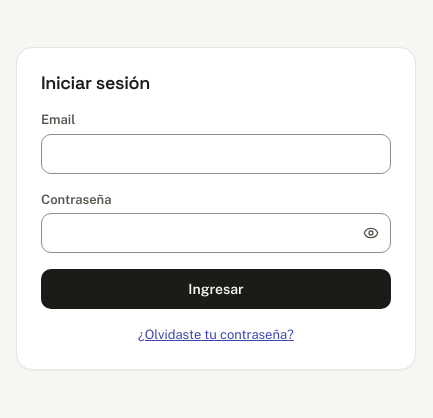
it: LoginPage — mensajes de Supabase en castellano › credenciales inválidas de Supabase (en inglés) se muestran en castellano
This screenshot has width=433, height=418.
Type "a@example.com" into the field labelled "Email" at point(216, 154), box [41,134,391,174]
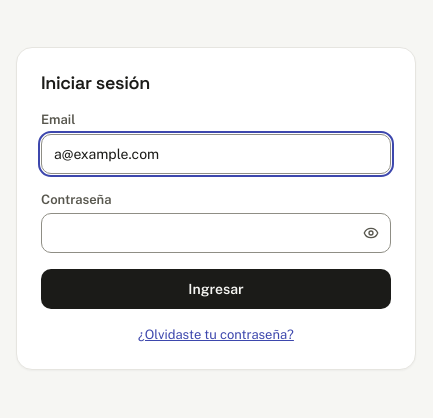
Type "wrong" into the password field labelled "Contraseña" at point(216, 233), box [41,213,391,253]
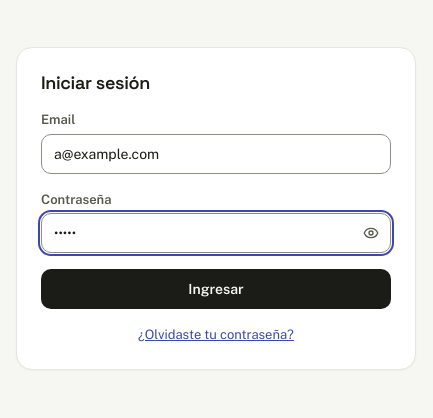
Click the button "Ingresar" at point(216, 289), box [41,269,391,309]
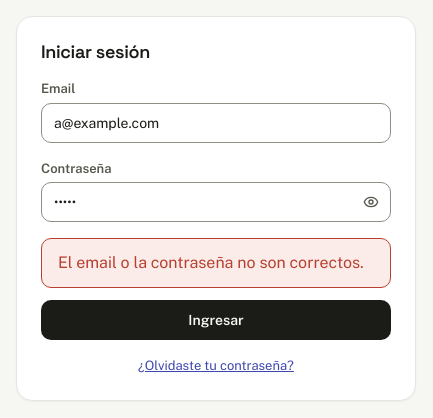
Now the message reads "El email o la contraseña no son correctos.", box [58,253,364,272]
